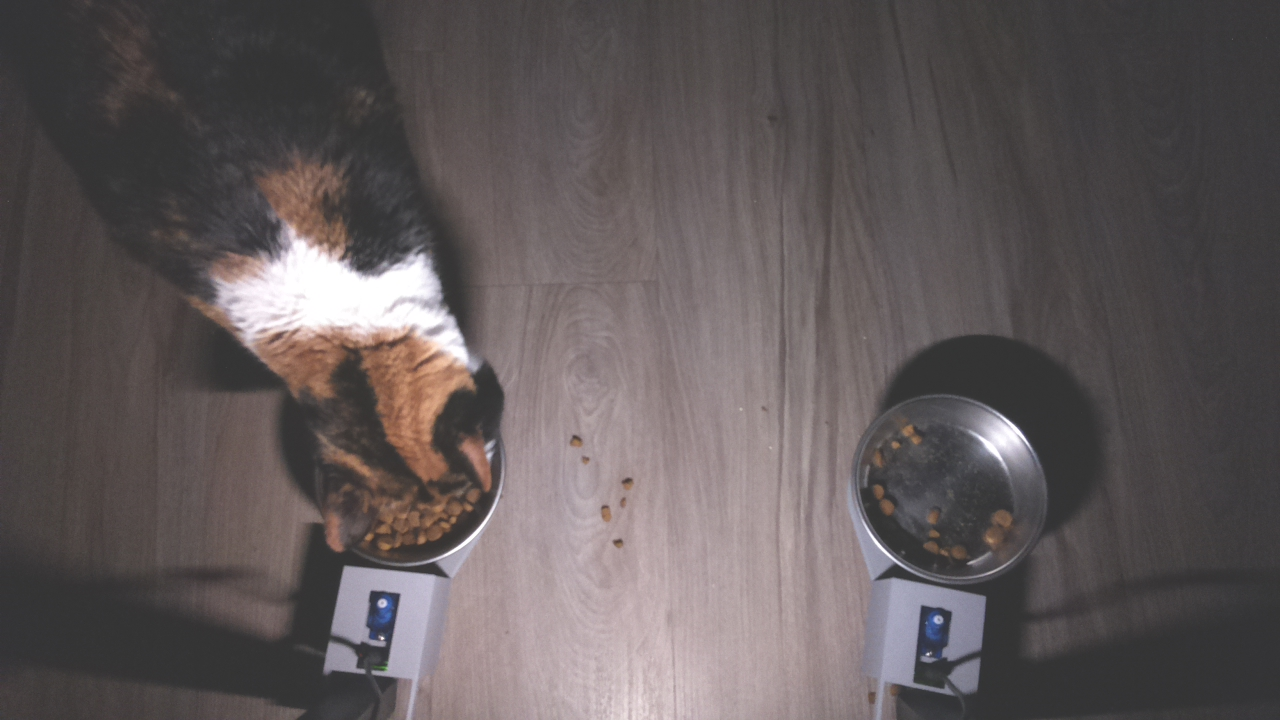bella_eating: (263, 270, 515, 559)
open_bowl: (848, 393, 1054, 587)
